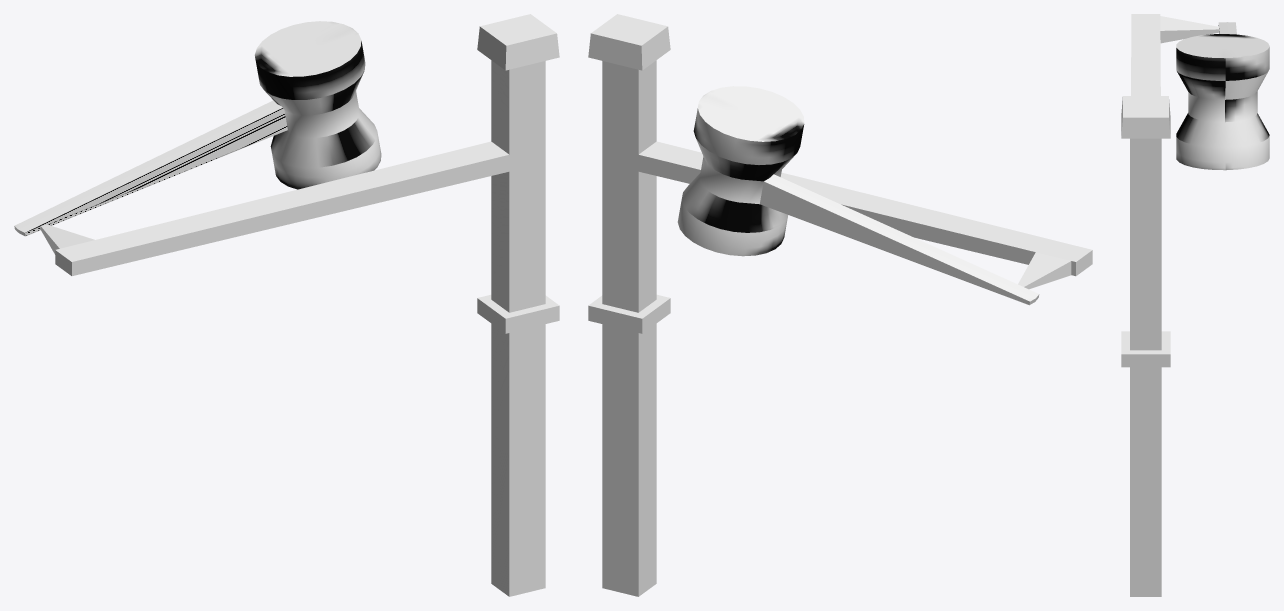
3 views of the same model, side by side, from view 1: azimuth 30°, elevation 25°; view 2: azimuth 150°, elevation 25°; view 3: azimuth 270°, elevation 25° (orthographic). The views are drawn at different scales.
Visible parts, largest first — view 1: Box001, Cylinder006; view 2: Box001, Cylinder006; view 3: Box001, Cylinder006.
Part boxes in pixels (x1,y1,x2,y2): Box001: [40, 14, 559, 596]; Cylinder006: [14, 21, 381, 236]; Box001: [588, 14, 1092, 596]; Cylinder006: [677, 86, 1039, 305]; Box001: [1121, 14, 1218, 596]; Cylinder006: [1176, 22, 1269, 170].
Size of the model in its own units: 8225 by 2529 by 9068.
